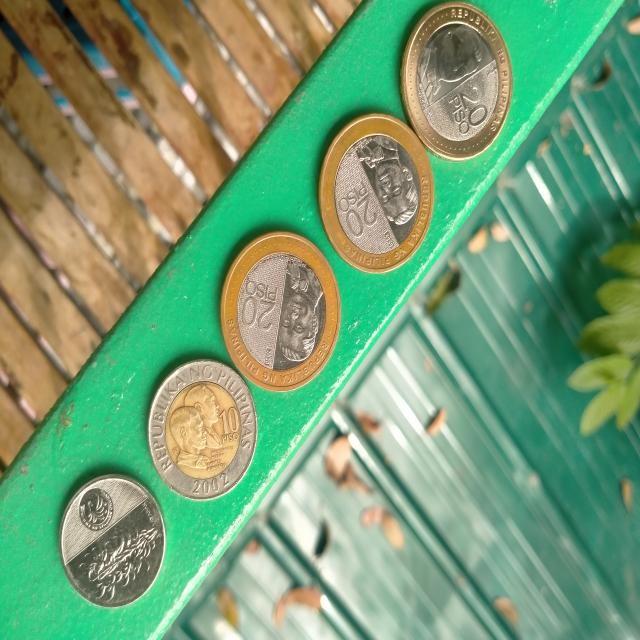10_Old_Front: (212, 401, 245, 447)
20_New_Front: (335, 173, 383, 243), (234, 272, 285, 337), (444, 83, 494, 139)
5_New_Back: (62, 512, 164, 604)
